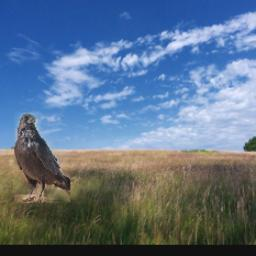Crow: (15, 113, 71, 203)
